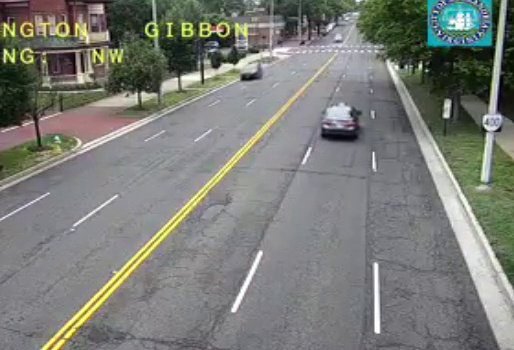car: (322, 106, 357, 135)
